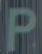Parking: (2, 1, 36, 53)
